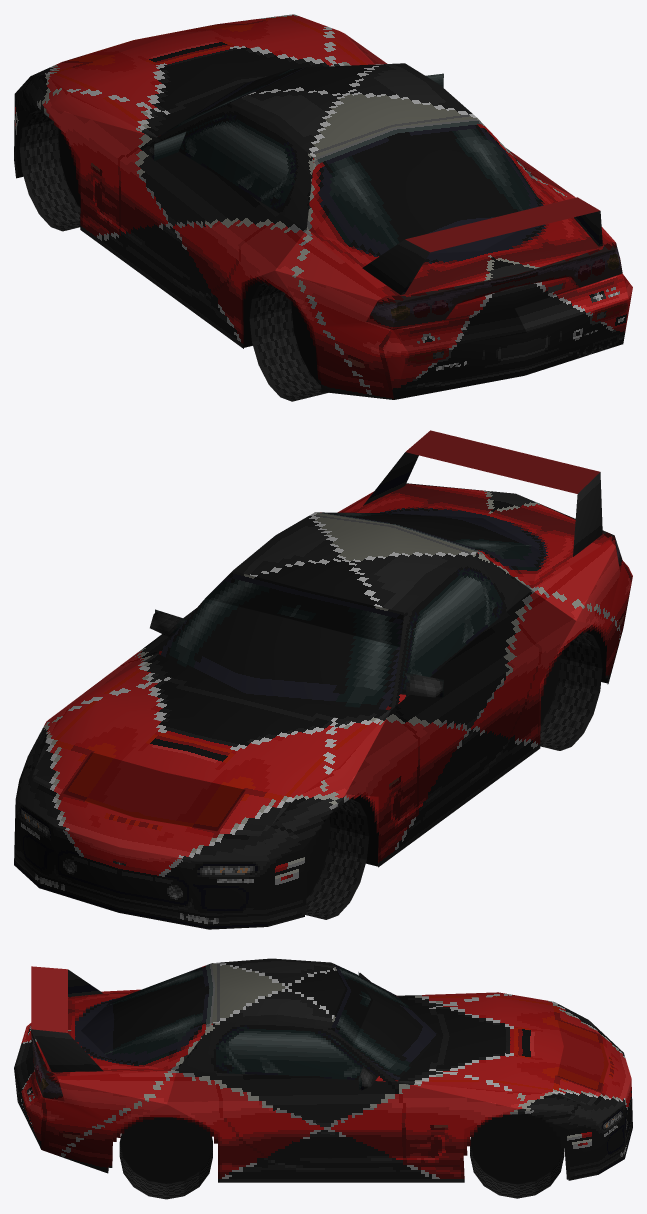
File: day.glb
3 renders of one model, top to bottom at view 1: azimuth 30°, elevation 25°; view 2: azimuth 150°, elevation 25°; view 3: azimuth 270°, elevation 25°, orthographic. The views are drawn at different scales.
Parts seen in each view (by area): view 1: Native body LOD0, Native wheel 2, Native wheel 0; view 2: Native body LOD0, Native wheel 0, Native wheel 2; view 3: Native body LOD0, Native wheel 1, Native wheel 3.
Boxes of the visible parts, left/top/right/bottom form: Native body LOD0: left=14, top=14, right=632, bottom=399; Native wheel 2: left=249, top=283, right=328, bottom=401; Native wheel 0: left=19, top=109, right=80, bottom=231; Native body LOD0: left=14, top=430, right=632, bottom=929; Native wheel 0: left=306, top=799, right=369, bottom=919; Native wheel 2: left=540, top=631, right=602, bottom=750; Native body LOD0: left=14, top=958, right=632, bottom=1182; Native wheel 1: left=470, top=1113, right=564, bottom=1198; Native wheel 3: left=119, top=1117, right=212, bottom=1199.
Bounding box in the file's own units: 1.82 × 1.23 × 4.3.
13 materials, 12 textured.
